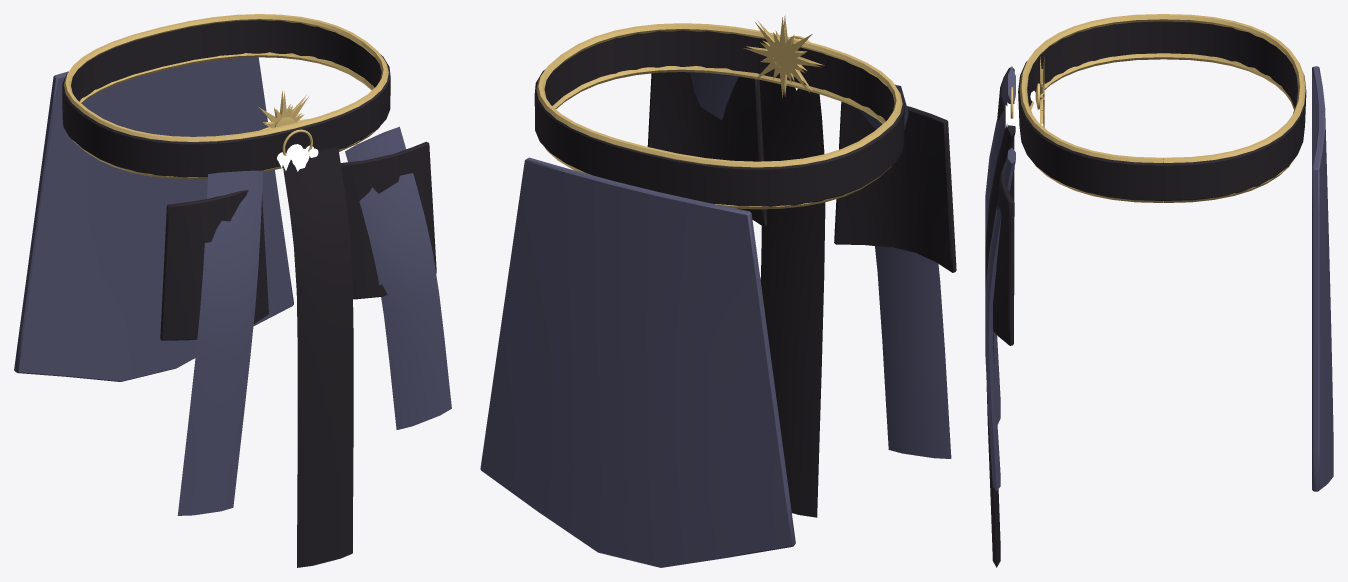
File: asc_sanctified_shade_inner.glb
The picture shows the model from 3 angles, left to right: view 1: azimuth 30°, elevation 25°; view 2: azimuth 150°, elevation 25°; view 3: azimuth 270°, elevation 25°; orthographic projection. The views are drawn at different scales.
Visible parts, largest first — view 1: asc_sanctified_shade_inner, AT_thigh_R, AT_thigh_L; view 2: asc_sanctified_shade_inner, AT_thigh_R, AT_thigh_L; view 3: asc_sanctified_shade_inner, AT_thigh_L.
Boxes of the visible parts, left/top/right/bottom form: asc_sanctified_shade_inner: left=14, top=14, right=451, bottom=567; AT_thigh_R: left=160, top=190, right=268, bottom=340; AT_thigh_L: left=340, top=141, right=436, bottom=299; asc_sanctified_shade_inner: left=480, top=15, right=951, bottom=567; AT_thigh_R: left=834, top=101, right=956, bottom=272; AT_thigh_L: left=647, top=72, right=767, bottom=226; asc_sanctified_shade_inner: left=985, top=14, right=1333, bottom=567; AT_thigh_L: left=993, top=160, right=1014, bottom=345.
Bounding box in the file's own units: 0.4686 × 0.7078 × 0.4593.
